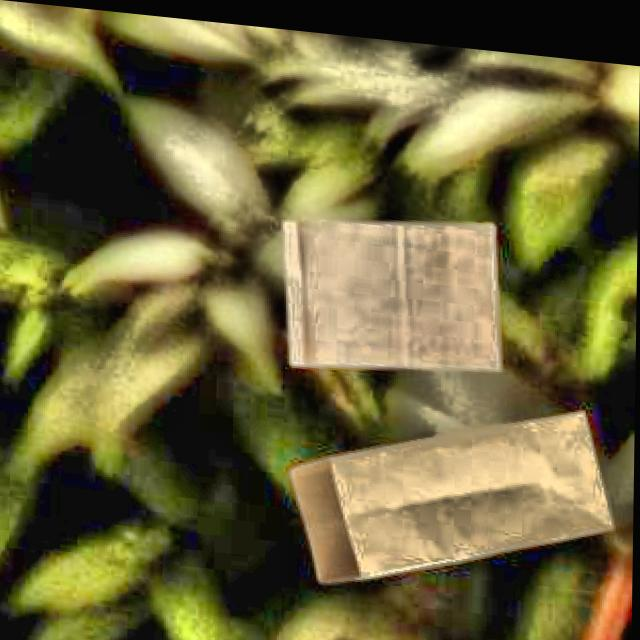Paper-bag: (272, 365, 627, 606), (274, 194, 517, 383)
